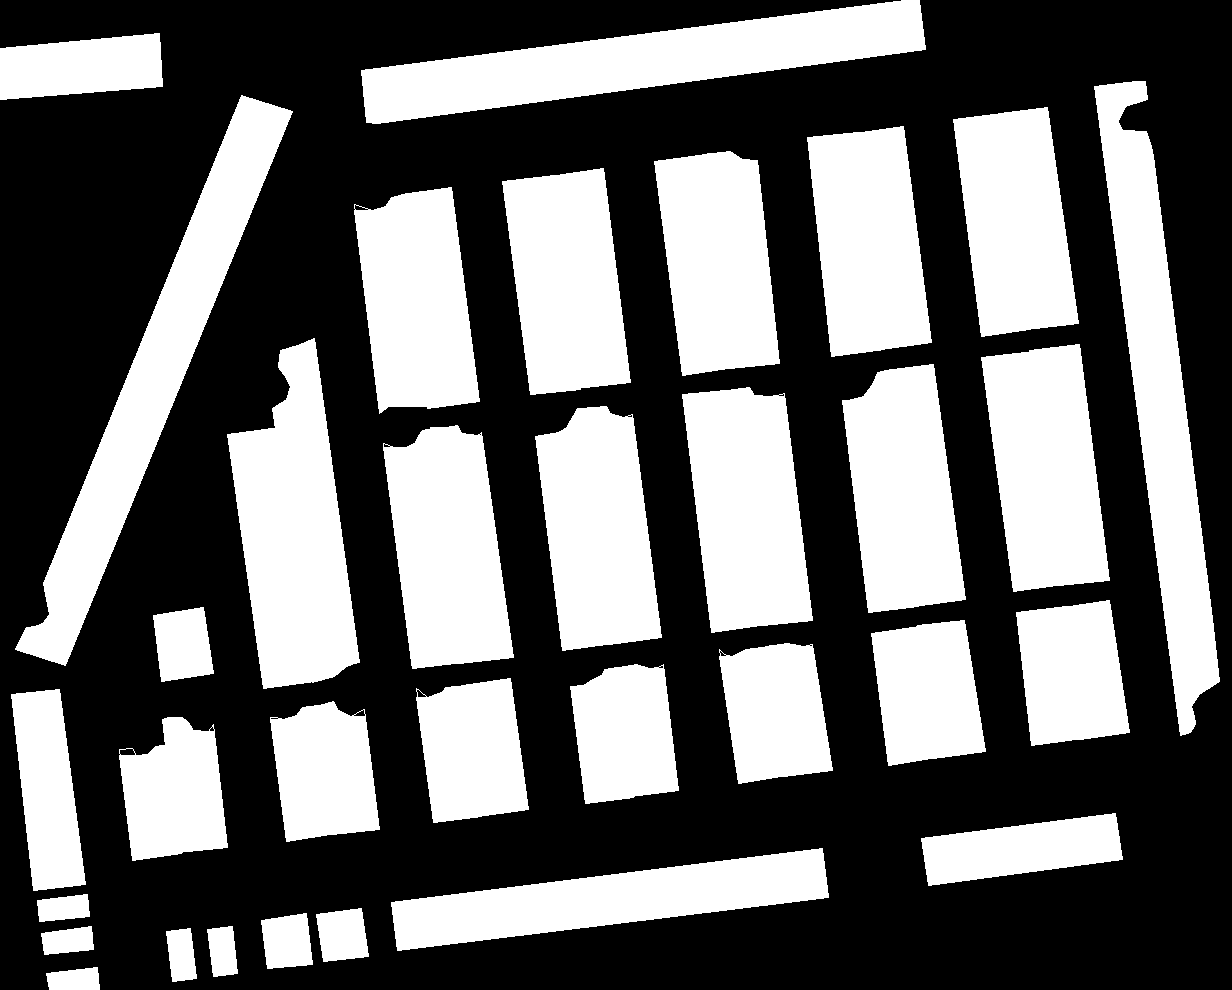parkingspot: (15, 95, 292, 665), (1094, 81, 1219, 735), (361, 0, 925, 123), (391, 848, 828, 950), (272, 338, 360, 682), (227, 427, 314, 688), (682, 389, 767, 632), (981, 351, 1063, 591), (884, 364, 965, 606), (430, 425, 513, 663), (580, 406, 661, 643), (1029, 344, 1109, 585), (383, 428, 463, 668), (733, 387, 812, 625), (535, 408, 613, 650), (842, 370, 918, 612), (549, 168, 630, 388), (999, 107, 1079, 329), (654, 154, 734, 375), (401, 187, 479, 408), (807, 132, 884, 356), (854, 126, 931, 349), (502, 175, 580, 394), (953, 113, 1029, 336), (702, 151, 779, 368), (354, 194, 430, 413), (11, 689, 85, 890), (921, 813, 1122, 885), (0, 33, 162, 99), (917, 620, 985, 758), (719, 646, 787, 783), (1062, 600, 1129, 739), (1016, 606, 1083, 745), (270, 705, 336, 841), (871, 626, 937, 765), (463, 678, 528, 816), (416, 685, 481, 822), (765, 643, 832, 776), (162, 717, 227, 852), (570, 667, 633, 803), (613, 664, 678, 796), (315, 701, 379, 834), (119, 744, 181, 860), (153, 607, 213, 681), (261, 913, 312, 968), (316, 908, 368, 961), (166, 928, 196, 981), (207, 926, 237, 976), (37, 894, 89, 921), (41, 926, 93, 954), (46, 967, 99, 989)
